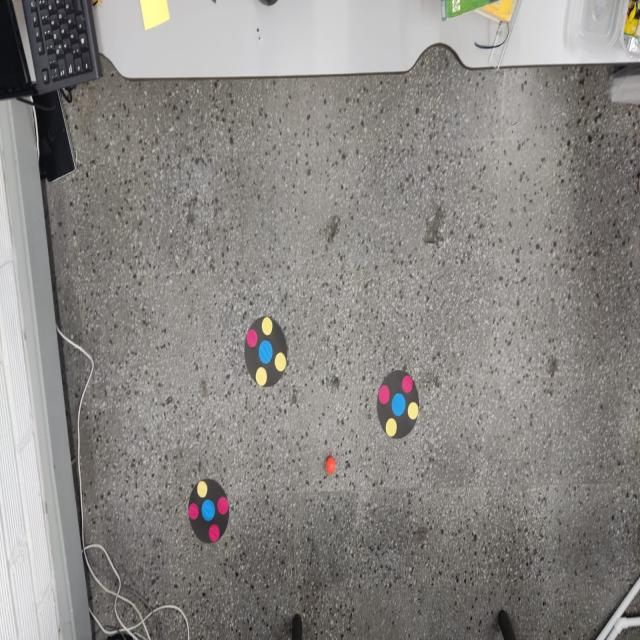0: (188, 478, 230, 544)
1: (376, 368, 421, 439)
2: (244, 314, 288, 388)
Ball: (326, 454, 336, 475)
